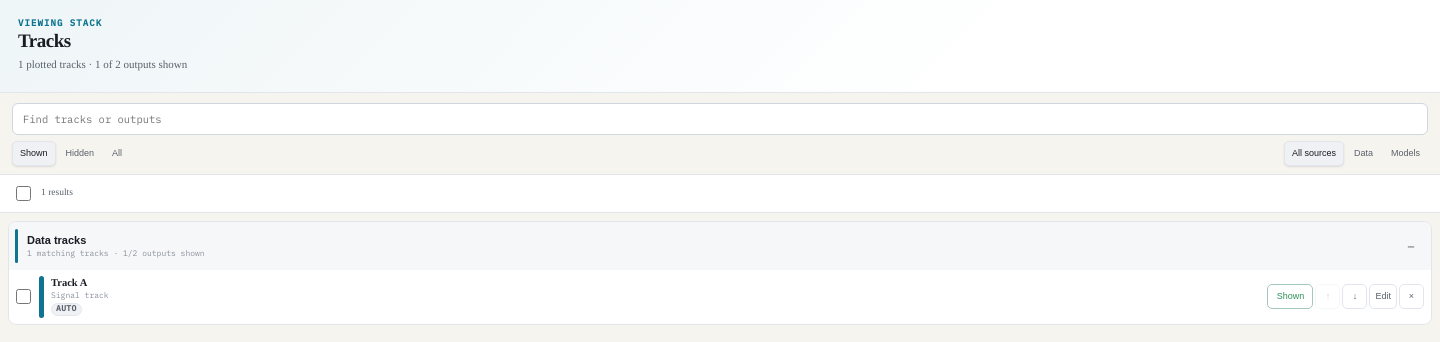
it: TrackManagerPanel › defaults to shown tracks and exposes a hidden filter
The image size is (1440, 342).
Check: the text "Track A" is shown, box [51,278,87,289]
Check: the text "Track B" is not shown
Click the button "Hidden": {"x": 80, "y": 153} [58,141,102,166]
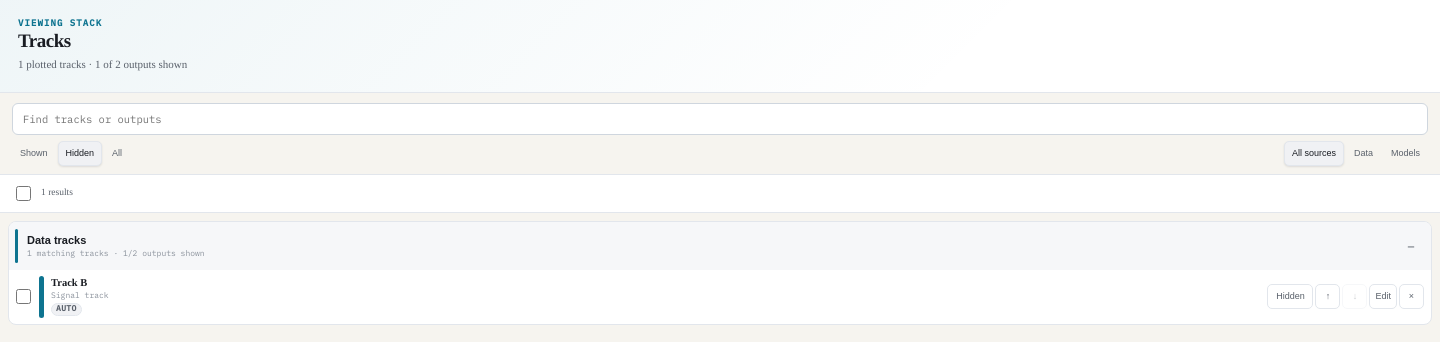
Check: the text "Track B" is shown, box [51,278,87,289]
